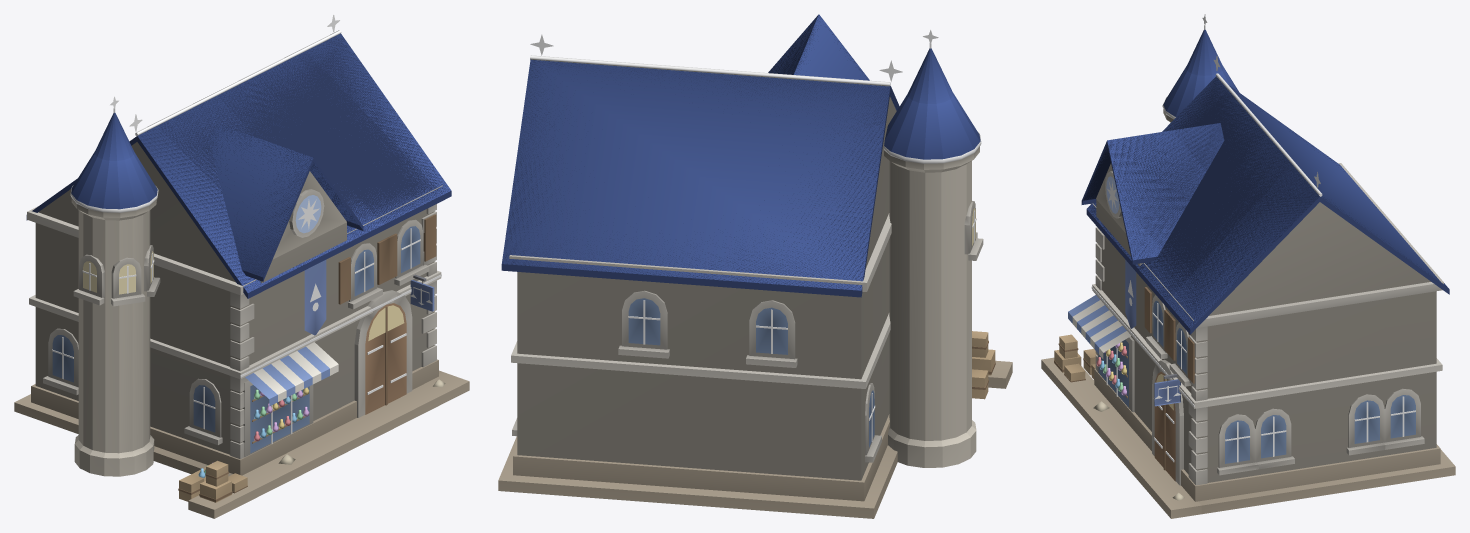
The model's file is guild_hq.glb.
3 renders of one model, left to right at view 1: azimuth 30°, elevation 25°; view 2: azimuth 150°, elevation 25°; view 3: azimuth 270°, elevation 25°, orthographic. The views are drawn at different scales.
Visible parts, largest first — view 1: Guild_stone, Guild_roof, Guild_props, Guild_gold, Guild_glow; view 2: Guild_stone, Guild_roof, Guild_props, Guild_gold; view 3: Guild_stone, Guild_roof, Guild_props, Guild_gold, Guild_glow.
Part boxes in pixels (x1,y1,x2,y2): Guild_stone: (14,142,469,518); Guild_roof: (26,33,451,298); Guild_props: (52,214,445,502); Guild_gold: (52,15,441,444); Guild_glow: (83,195,404,477); Guild_stone: (498,97,1012,518); Guild_roof: (501,14,980,297); Guild_props: (628,298,995,447); Guild_gold: (530,30,981,441); Guild_stone: (1041,109,1455,518); Guild_roof: (1081,29,1449,334); Guild_props: (1054,260,1415,500); Guild_gold: (1091,14,1415,462); Guild_glow: (1096,176,1173,410).
Bounding box in the file's own units: 10.88 × 10 × 10.81.
